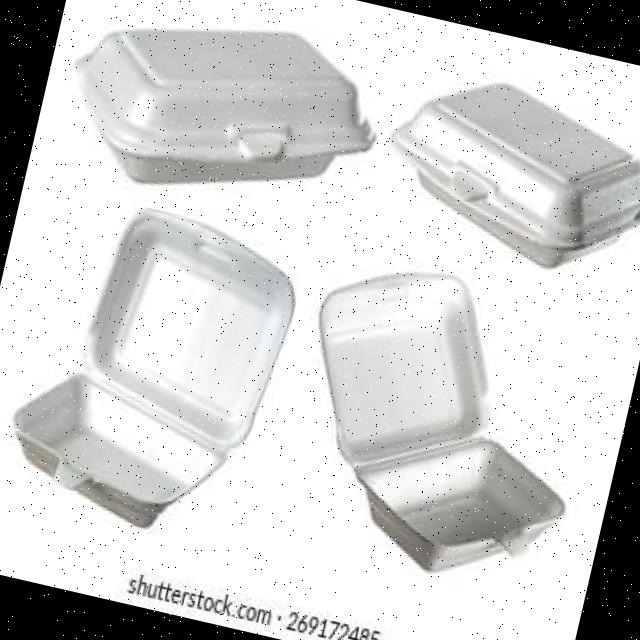styrofoam: (266, 243, 612, 597), (0, 183, 309, 549), (49, 0, 394, 231), (369, 54, 640, 287)
